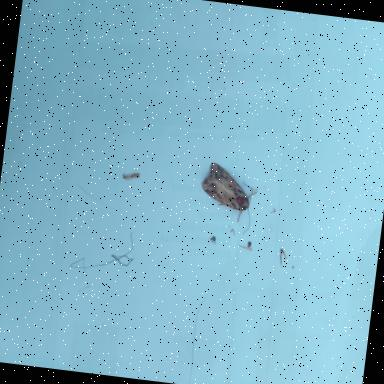abw: (196, 161, 260, 236)
